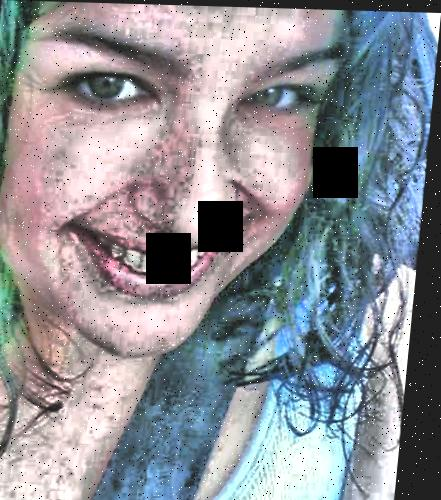seatbelt: (108, 225, 327, 487)
